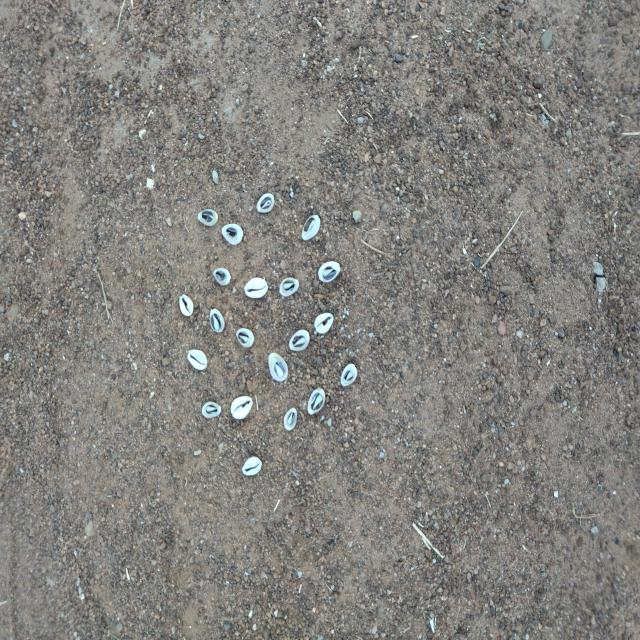facedown: (267, 350, 289, 383), (317, 260, 344, 285), (220, 222, 245, 248), (288, 328, 311, 355), (300, 215, 321, 242), (308, 386, 326, 416), (340, 362, 359, 389), (278, 277, 301, 298), (281, 406, 299, 432), (256, 192, 276, 214), (196, 209, 219, 228), (209, 306, 224, 334), (201, 400, 223, 419), (212, 267, 232, 287), (236, 327, 254, 348)
faceup: (230, 392, 253, 421), (242, 276, 268, 301), (186, 347, 209, 373), (242, 455, 262, 481), (313, 311, 335, 334), (178, 292, 196, 319)
